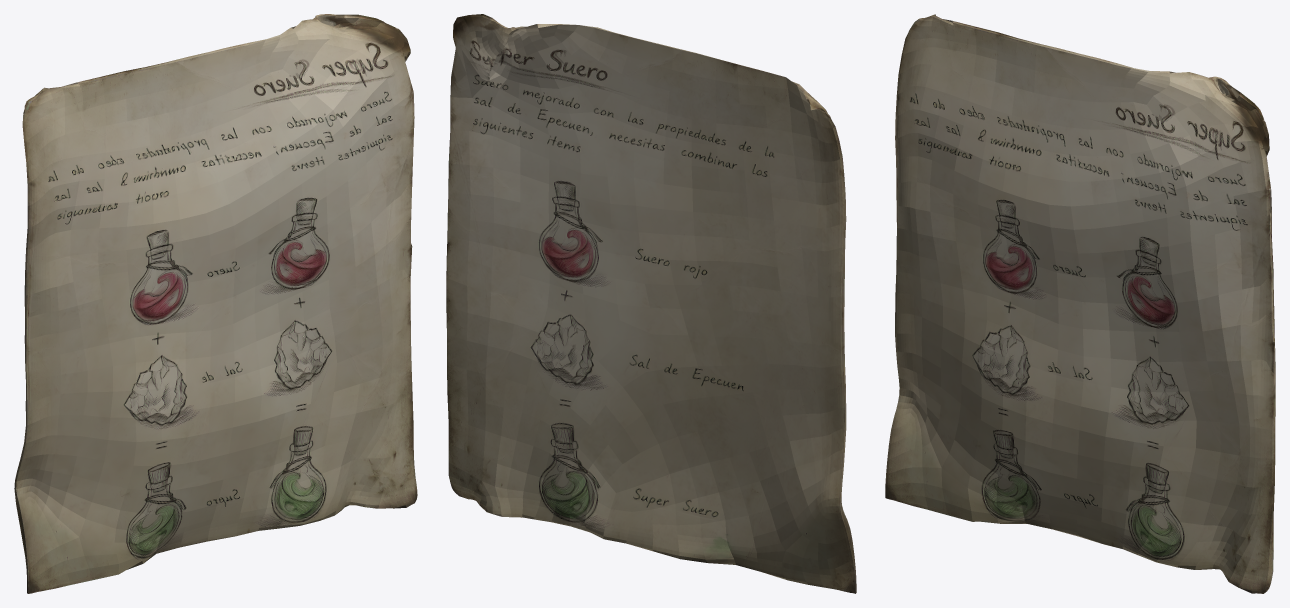
Rendered from recipe.fbx.
3 renders of one model, left to right at view 1: azimuth 30°, elevation 25°; view 2: azimuth 150°, elevation 25°; view 3: azimuth 330°, elevation 25°, orthographic. The views are drawn at different scales.
Visible parts, largest first — view 1: Recipe; view 2: Recipe; view 3: Recipe.
Part boxes in pixels (x1,y1,x2,y2): Recipe: [14, 14, 417, 593]; Recipe: [446, 14, 856, 593]; Recipe: [885, 14, 1275, 593].
Bounding box in the file's own units: 158 × 191 × 22.31.
Materials: 2 (2 with a texture image).
